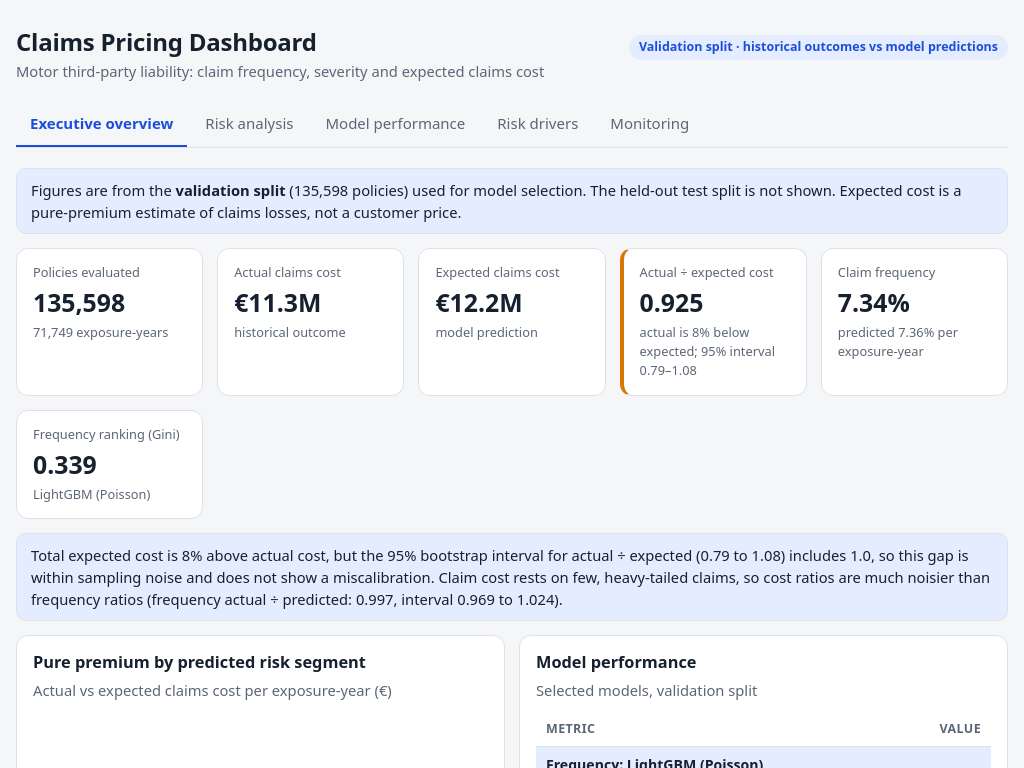
Test case: Risk analysis page › starts on driver age and shows every level with its sample size
Check: the text "Policies evaluated" is shown, box [33, 263, 140, 281]
Click the tab "Risk analysis" at (249, 124), box [191, 102, 308, 147]
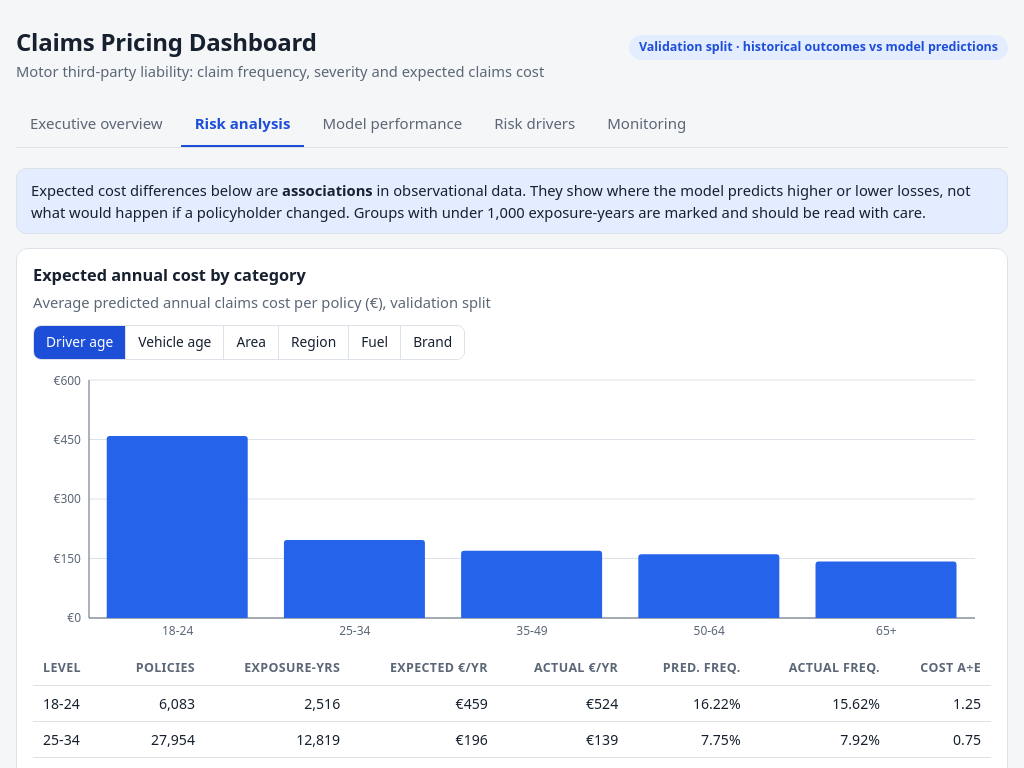
Check: the text "18-24" is shown, box [33, 685, 106, 721]
Check: the text "25-34" is shown, box [33, 721, 106, 757]
